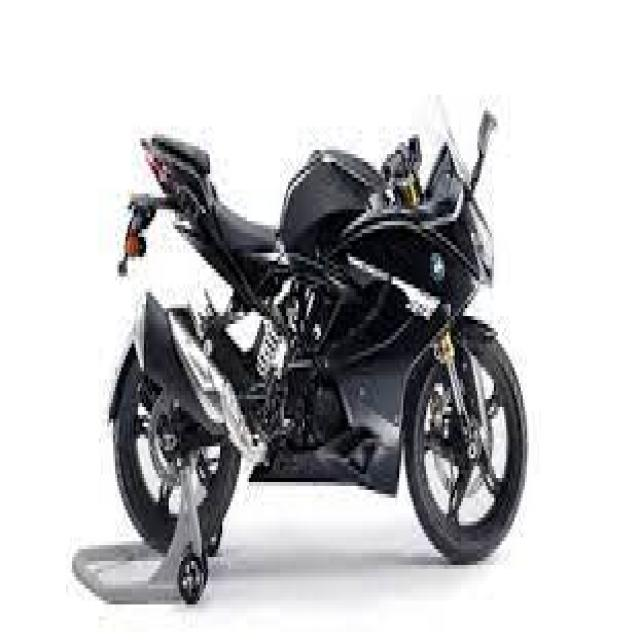Bike: (106, 94, 528, 566)
